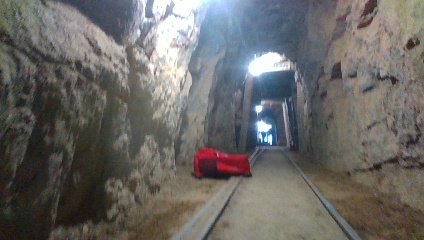backpack: (191, 147, 252, 179)
